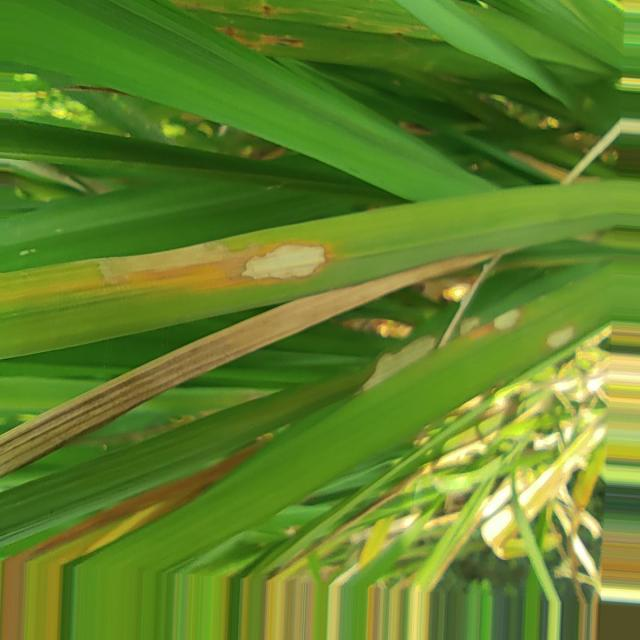Leaf_Blast: (0, 255, 489, 476)
Rice False Smut: (98, 242, 228, 285), (242, 243, 325, 280)
